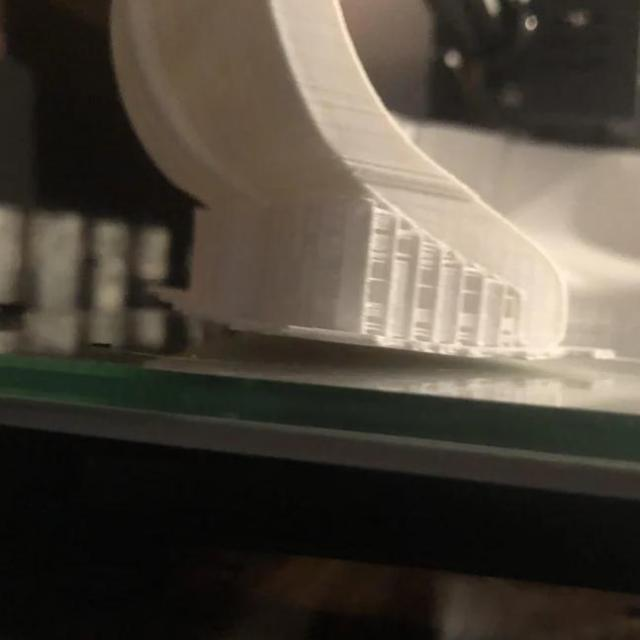Warping: (183, 309, 381, 363), (388, 335, 590, 375)
